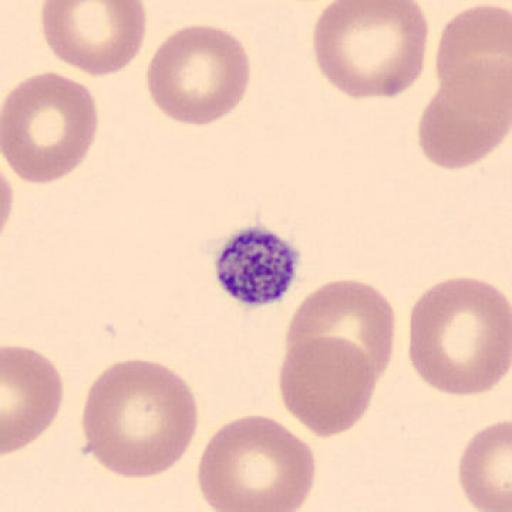Platelet: (210, 222, 304, 308)
RBC: (80, 356, 200, 480), (426, 0, 512, 170), (408, 275, 512, 398), (311, 0, 430, 102), (197, 412, 318, 512), (285, 276, 398, 382), (2, 70, 100, 185), (145, 23, 252, 128), (416, 58, 511, 170), (278, 334, 378, 439), (435, 2, 512, 114), (40, 0, 148, 78), (2, 344, 65, 456), (458, 417, 512, 512), (0, 153, 17, 248), (0, 163, 14, 239)
